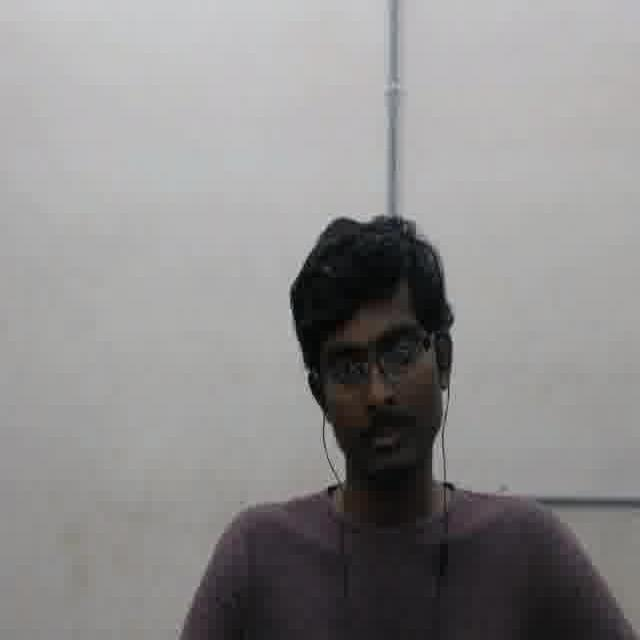Engaged: (317, 291, 430, 464)
